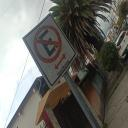NoEstacionar: (22, 8, 80, 93)
